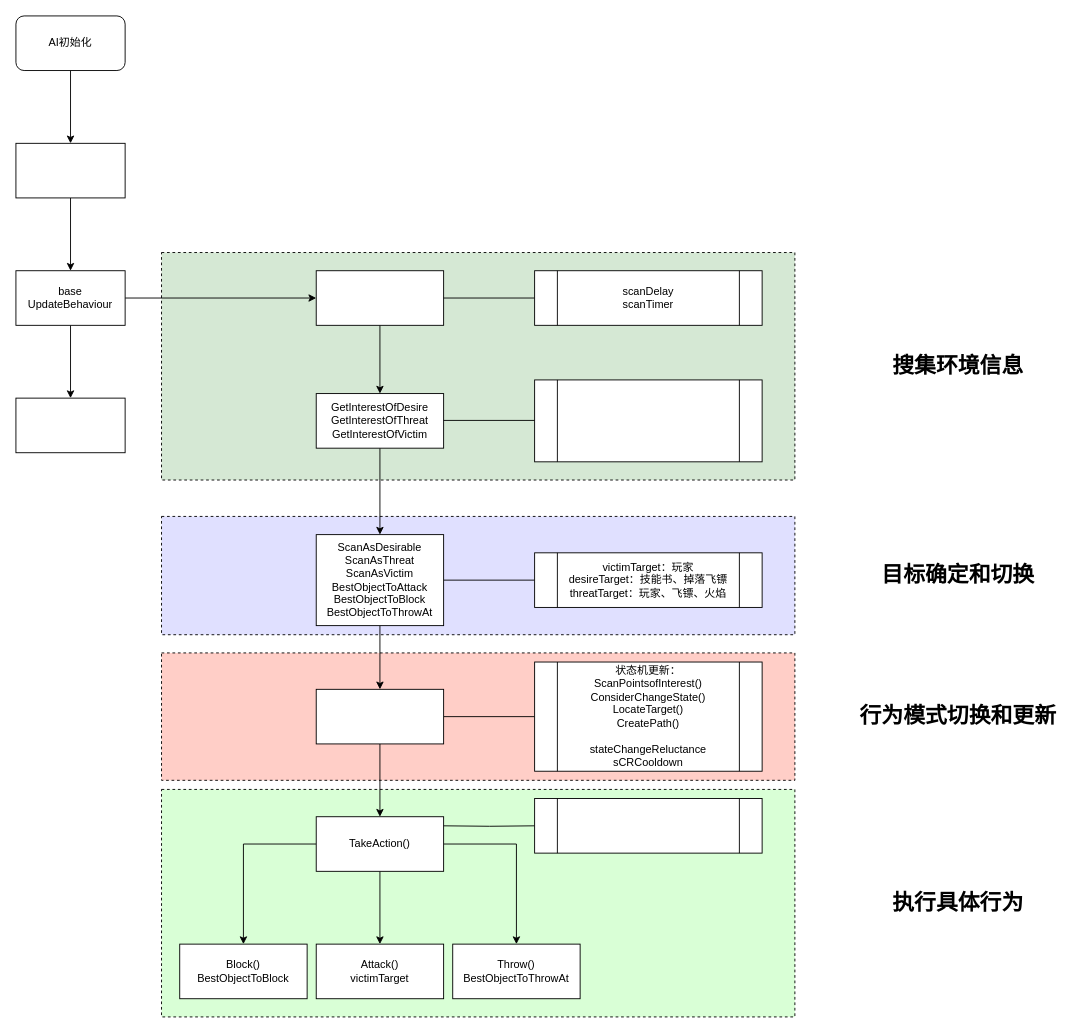
Some shapes in this 1078 by 1033 pixel diagram are drawn without their labels. Here are the shapes that lost their labels. From the top down, the centre of each, then its label:
At point (70, 170): "this UpdateBehaviour".
At point (379, 297): "ScanPointsofInterest()".
At point (70, 425): "场景中每个Player Attack()".
At point (648, 420): "攻击值，系数aggreesiveMod 期待值，系数greedyMod 威胁值，系数nervousMod 环境兴趣值，系数ambientInterestMod".
At point (379, 716): "ConsiderChangeState()".
At point (648, 825): "inputDelay inputTimer".
